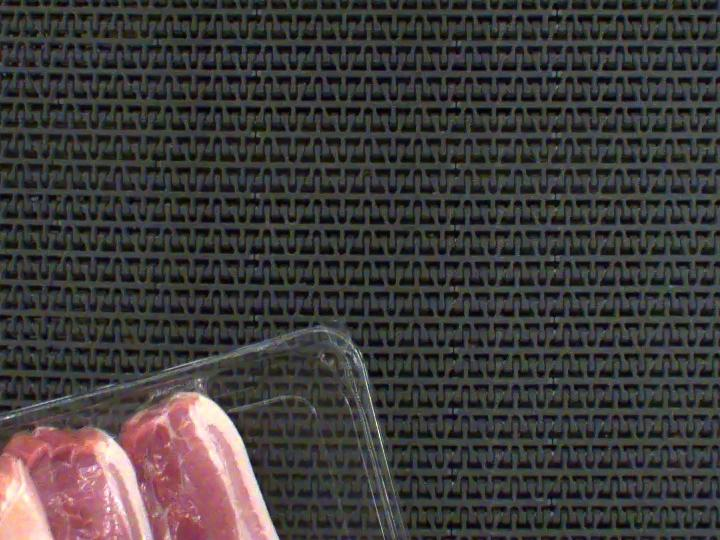packaging-error: (143, 374, 216, 404)
